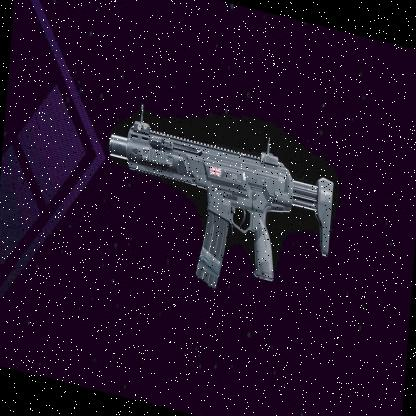rifle: (92, 86, 341, 326)
